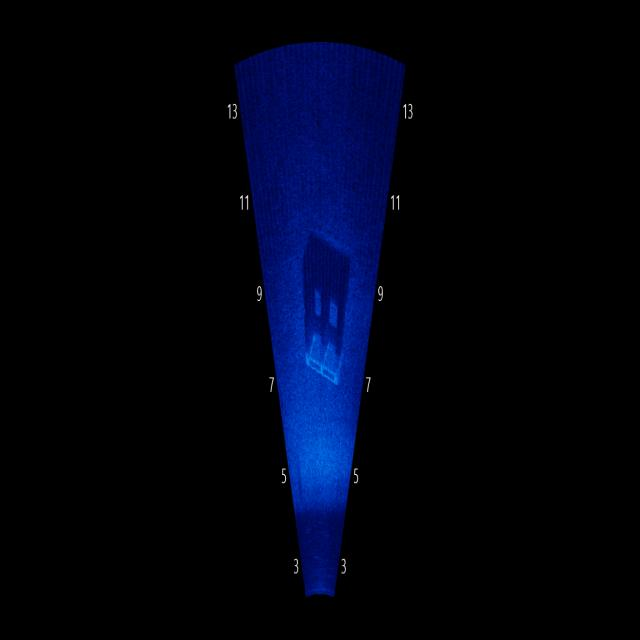square: (300, 306, 350, 389)
